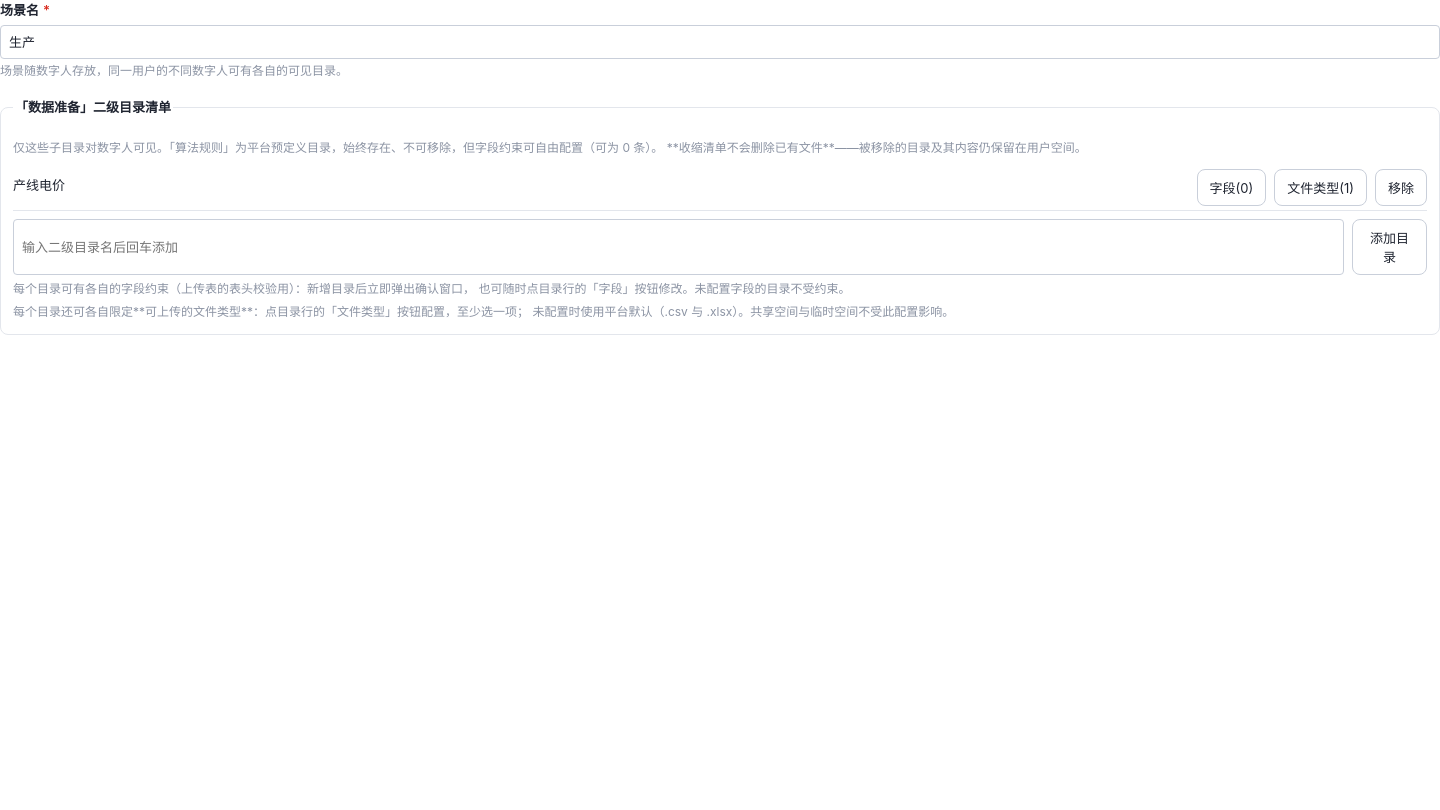
Test: ScenarioEditor › 已配置目录打开窗口时回显其配置（非默认）
Click the button with test id "upload-types-产线电价" at (1321, 188), box x1=1274 y1=169 x2=1367 y2=206
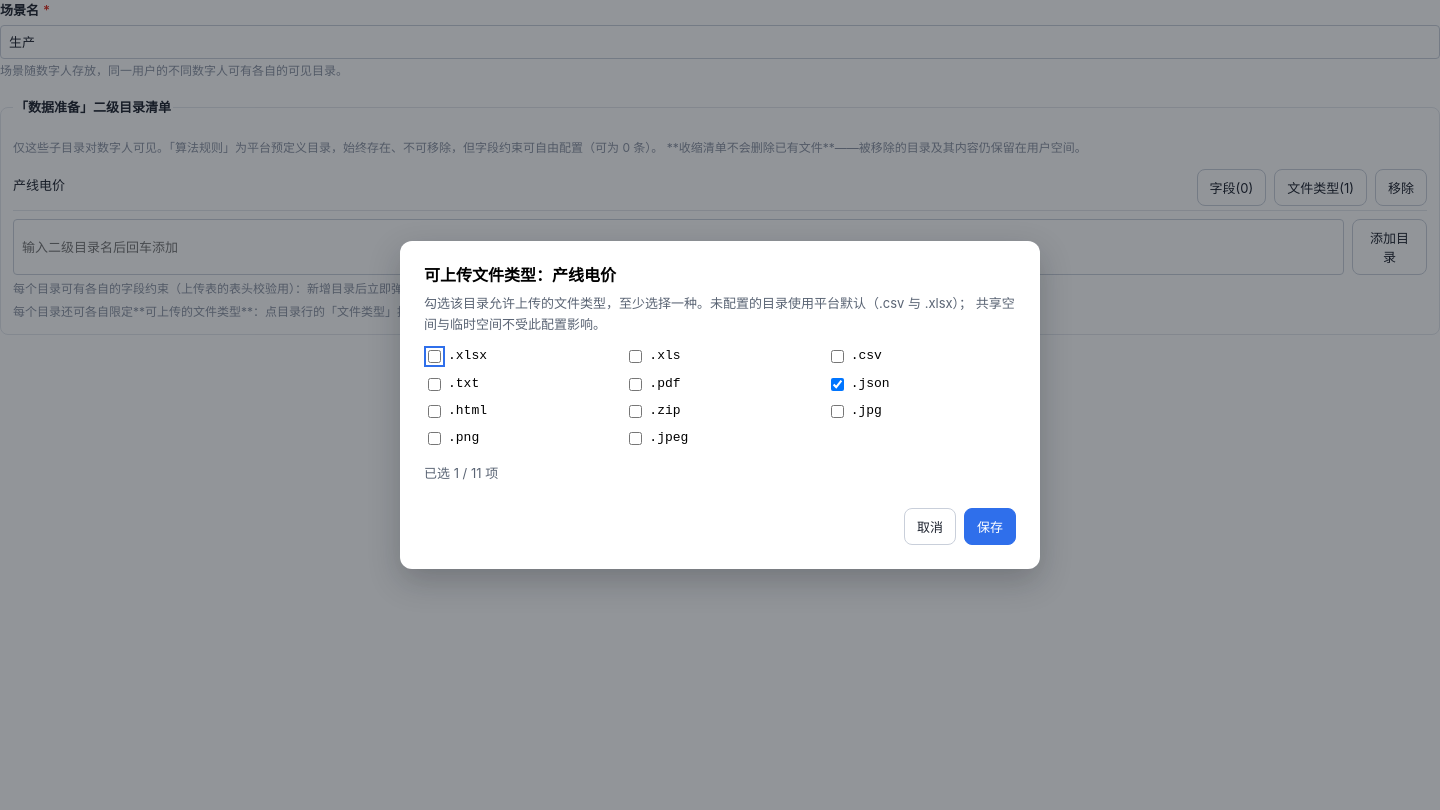
Expected: the checkbox with test id "upload-ext-.json" is checked, x1=831 y1=378 x2=844 y2=390
Expected: the checkbox with test id "upload-ext-.csv" is not checked, x1=831 y1=350 x2=844 y2=363
